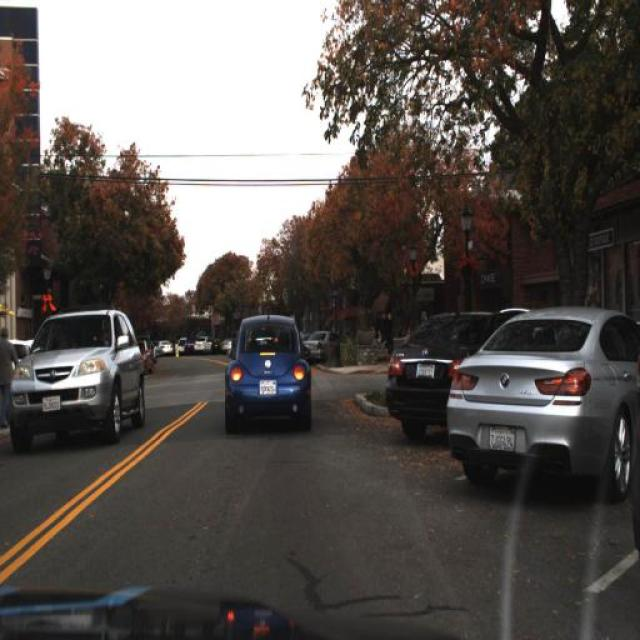car: (443, 299, 639, 507), (377, 296, 531, 443), (7, 302, 147, 452), (220, 308, 312, 438), (302, 319, 348, 365), (133, 333, 156, 376), (154, 337, 174, 358), (194, 334, 212, 354)
